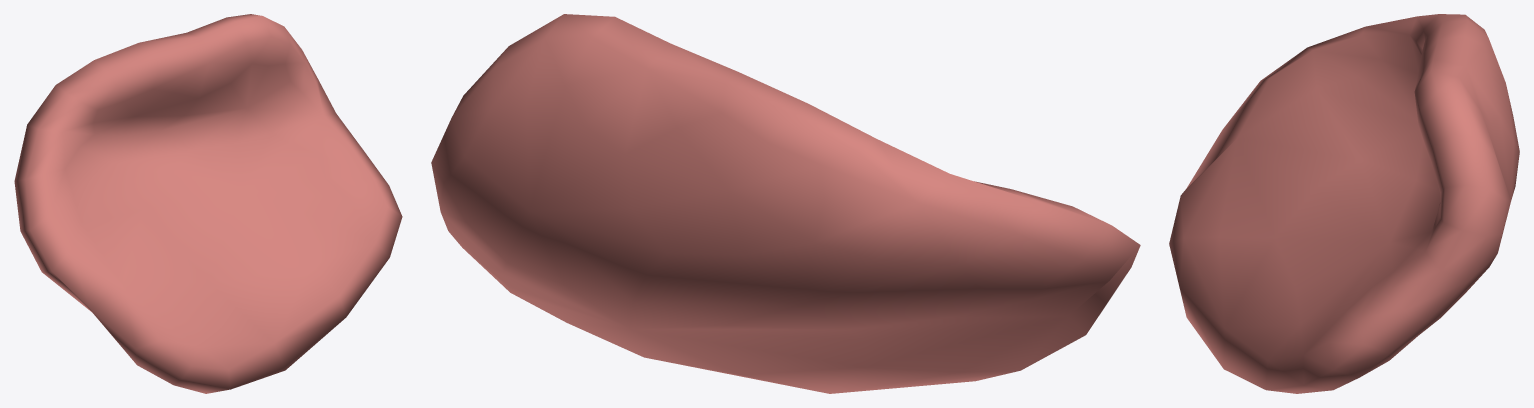
The picture shows the model from 3 angles, left to right: view 1: azimuth 30°, elevation 25°; view 2: azimuth 150°, elevation 25°; view 3: azimuth 270°, elevation 25°; orthographic projection. The views are drawn at different scales.
Parts seen in each view (by area): view 1: ZA_003b06eda82de9de; view 2: ZA_003b06eda82de9de; view 3: ZA_003b06eda82de9de.
Part boxes in pixels (left/top/right/bottom): ZA_003b06eda82de9de: left=14, top=14, right=402, bottom=393; ZA_003b06eda82de9de: left=431, top=14, right=1140, bottom=393; ZA_003b06eda82de9de: left=1169, top=14, right=1519, bottom=393.
Bounding box in the file's own units: 0.0036 × 0.00249 × 0.00244.
